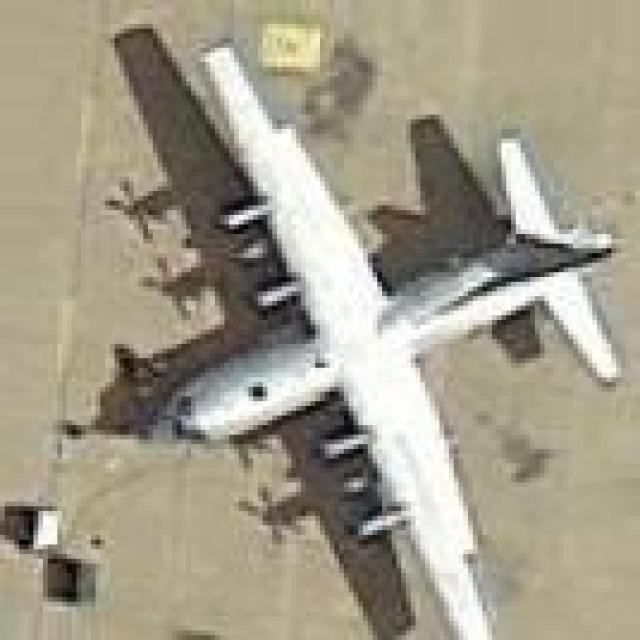C-130_TopDown: (59, 23, 627, 640)
